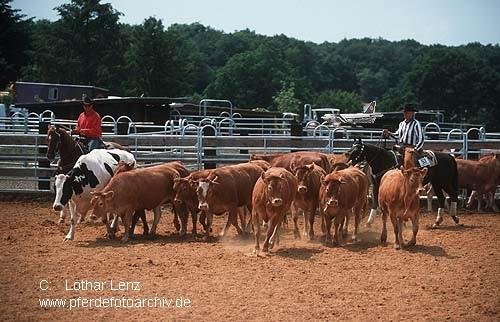tampered: (322, 102, 384, 123)
